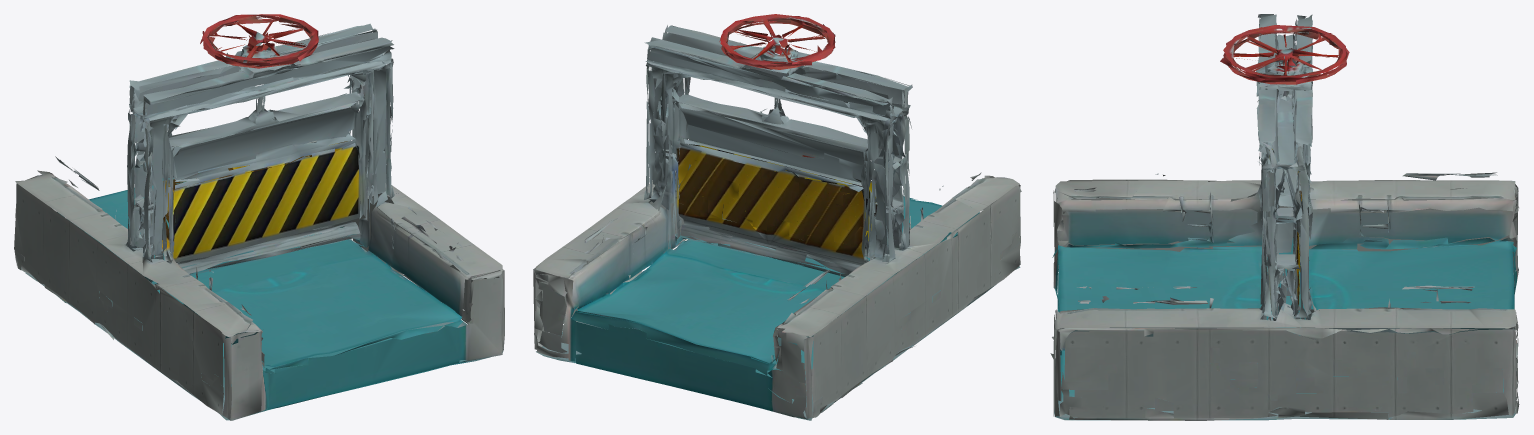
The model's file is lockGate.glb.
The picture shows the model from 3 angles, left to right: view 1: azimuth 30°, elevation 25°; view 2: azimuth 150°, elevation 25°; view 3: azimuth 270°, elevation 25°; orthographic projection. The views are drawn at different scales.
Visible parts, largest first — view 1: lockGate; view 2: lockGate; view 3: lockGate.
Part boxes in pixels (x1,y1,x2,y2): lockGate: (14, 14, 504, 420); lockGate: (533, 14, 1021, 420); lockGate: (1050, 14, 1519, 420).
Size of the model in its own units: 0.9763 by 0.905 by 1.29.
Materials: 1 (1 with a texture image).
